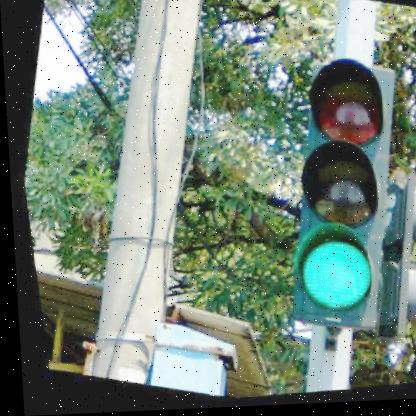Traffic Light -Green-: (253, 55, 416, 345)
